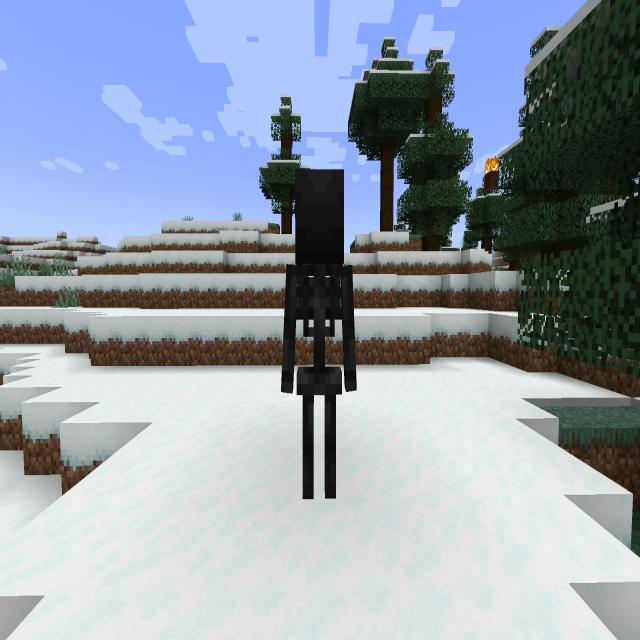Wither Skeleton: (272, 160, 365, 521)
